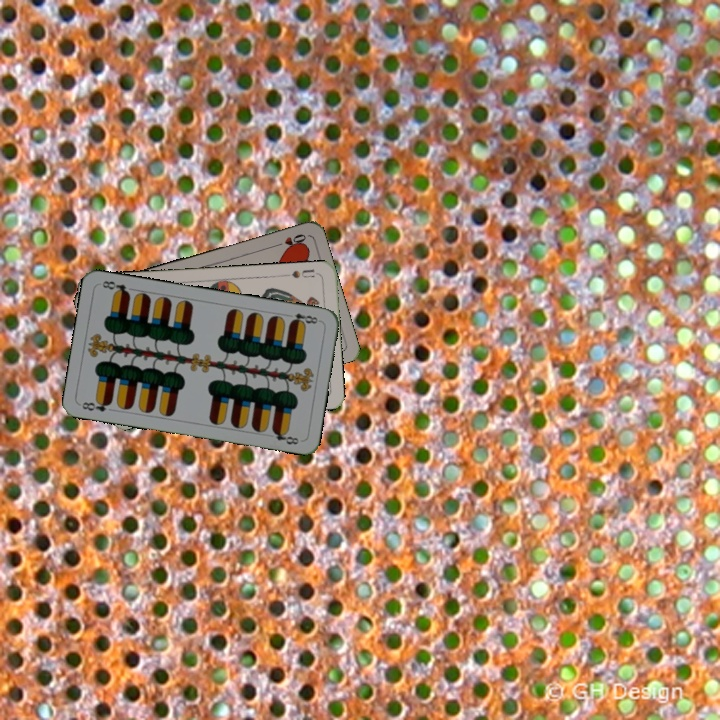E8: (283, 309, 323, 328), (78, 395, 114, 414)
HO: (269, 230, 309, 250)
SU: (280, 265, 321, 281)
